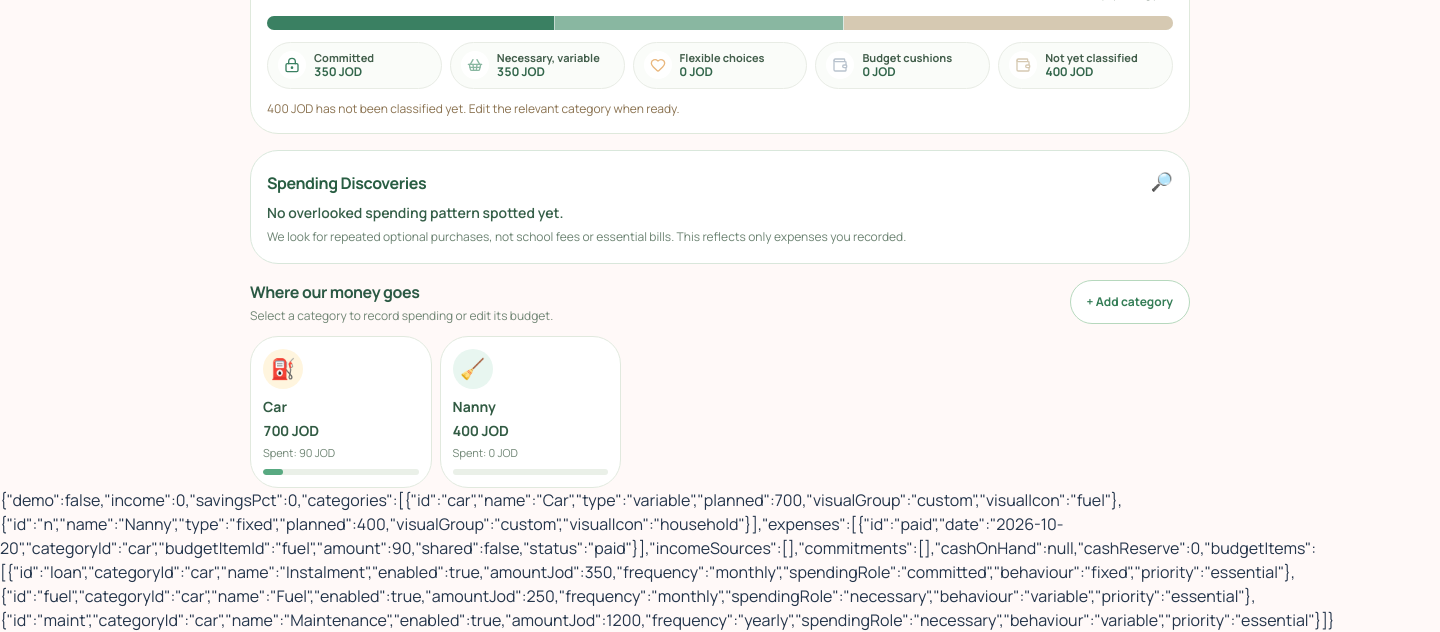
Test: A family-first Money page using the same classified financial records › classifies a category without adding a separate line or financial entry
(page scrolled)
Click the button with test id "category-custom-n" at {"x": 530, "y": 412}, box [440, 336, 621, 488]
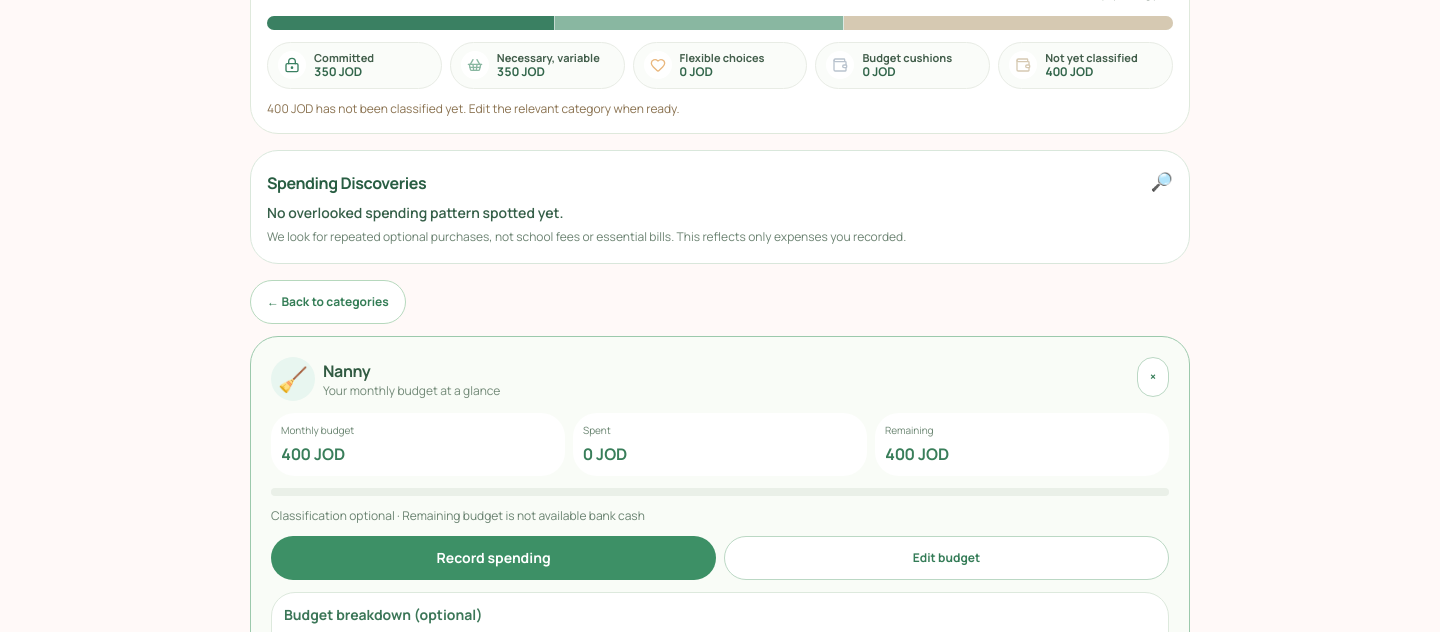
Click the button "Edit budget" at {"x": 946, "y": 558}, box [724, 536, 1169, 580]
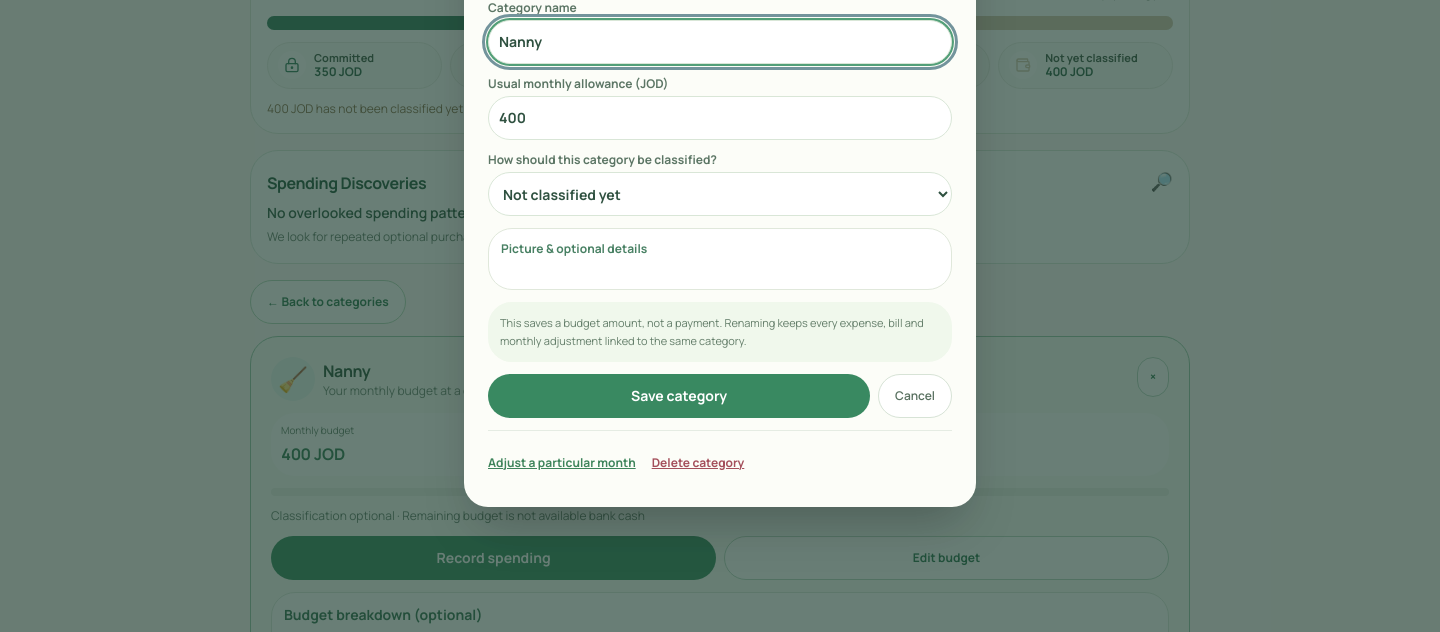
Select "Committed · fixed obligation" in the dropdown named "Category spending classification" at {"x": 720, "y": 194}, box [488, 172, 952, 216]
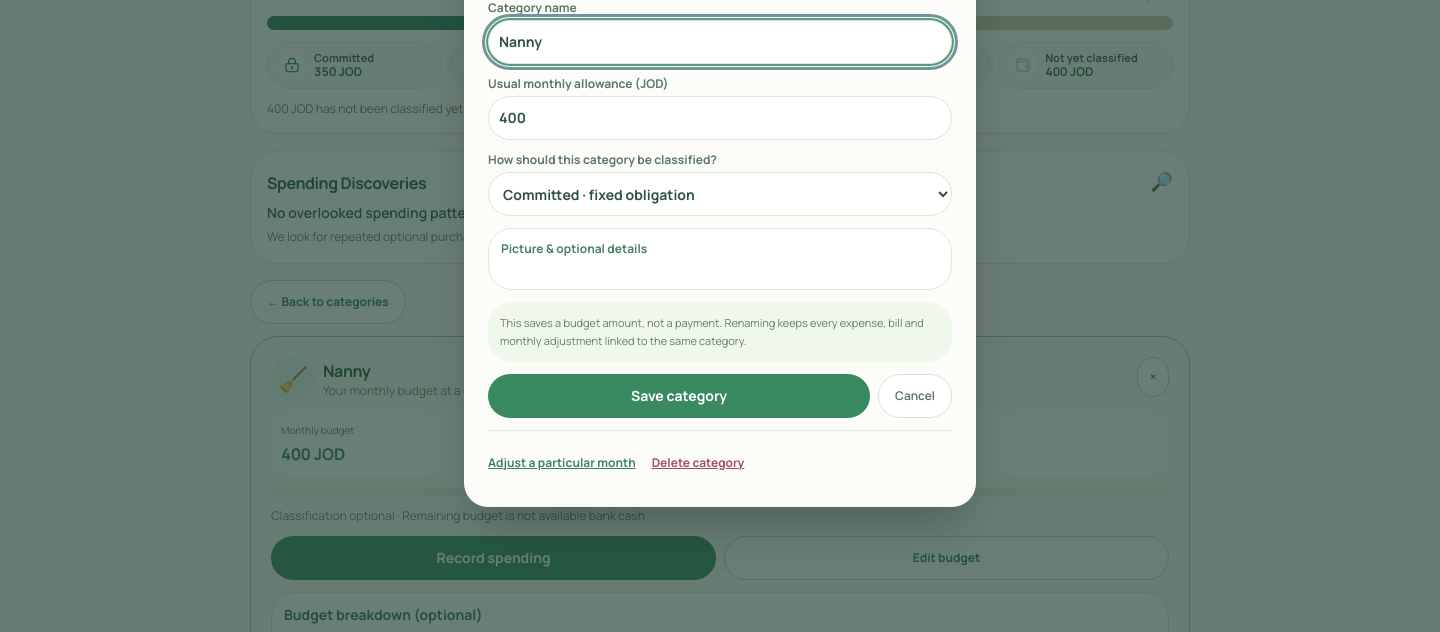
Click the button "Save category" at {"x": 679, "y": 396}, box [488, 374, 870, 418]
(page scrolled)
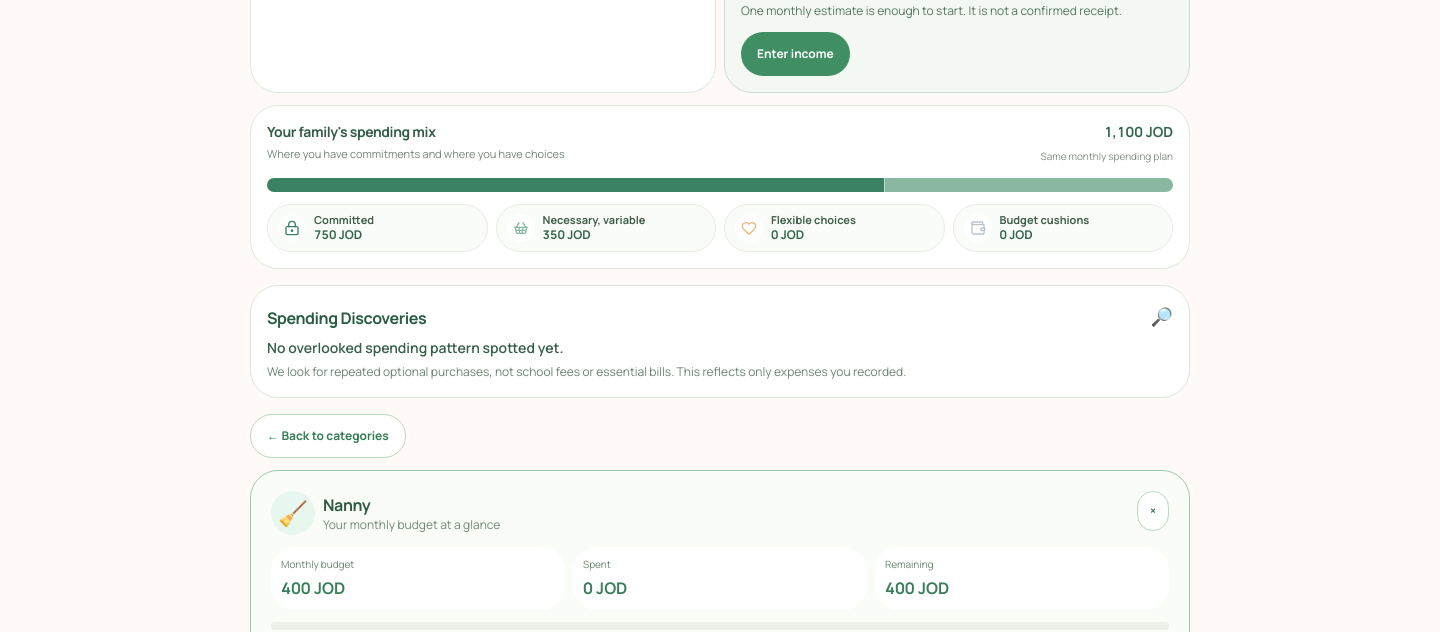
Expected: the element with test id "mix-stat-committed" shows "750 JOD", [314, 226, 362, 243]
